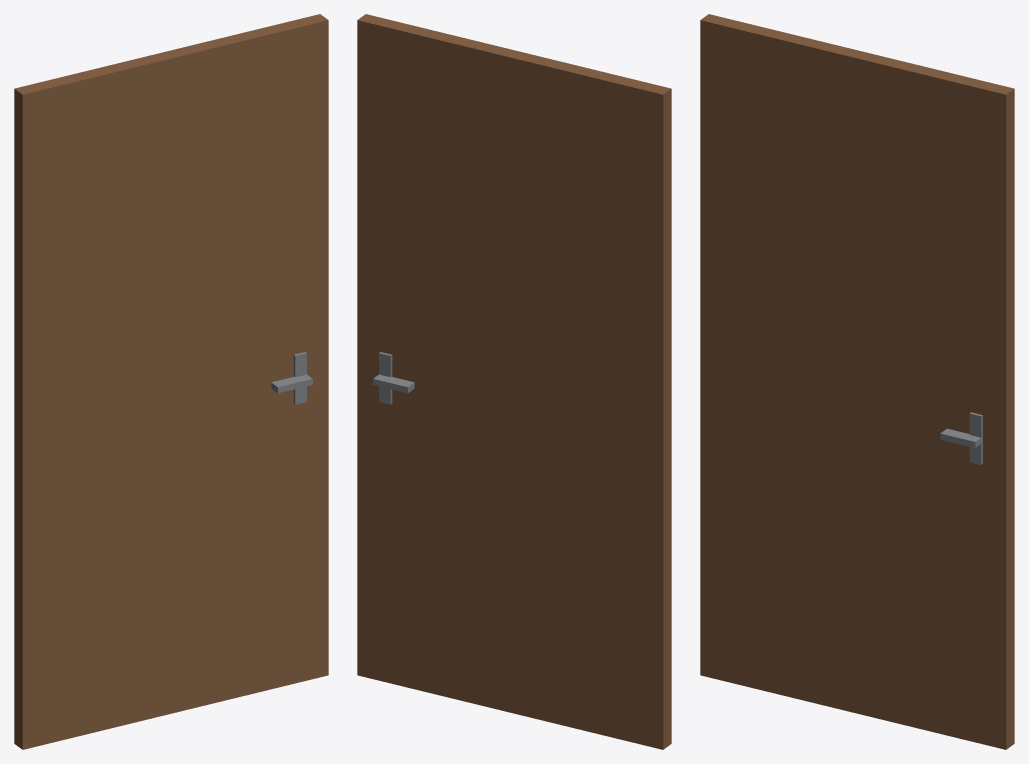
Rendered from SM_Door_Panel_105.fbx.
The picture shows the model from 3 angles, left to right: view 1: azimuth 30°, elevation 25°; view 2: azimuth 150°, elevation 25°; view 3: azimuth 330°, elevation 25°; orthographic projection.
Visible parts, largest first — view 1: SM_Door_Panel_105; view 2: SM_Door_Panel_105; view 3: SM_Door_Panel_105.
Boxes of the visible parts, x1=… form: SM_Door_Panel_105: x1=14, y1=14, x2=328, y2=749; SM_Door_Panel_105: x1=357, y1=14, x2=671, y2=749; SM_Door_Panel_105: x1=700, y1=14, x2=1014, y2=749.
Size of what is drawn, in the model's own units: 105 by 14 by 215.
